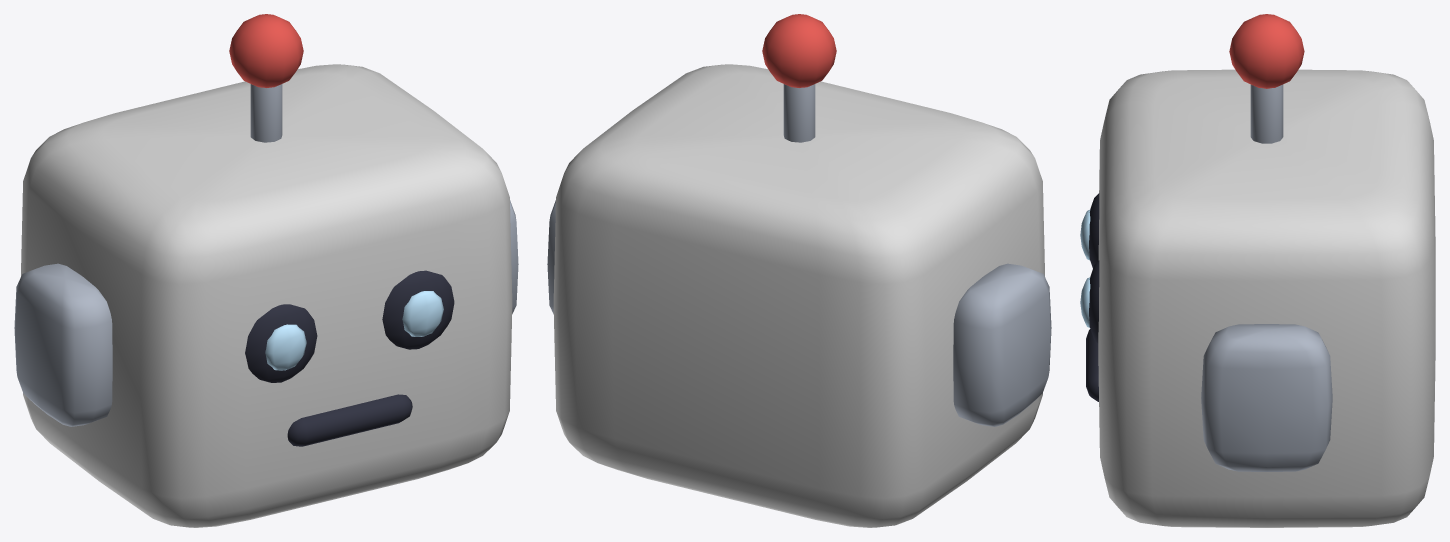
File: robot_head.glb
3 views of the same model, side by side, from view 1: azimuth 30°, elevation 25°; view 2: azimuth 150°, elevation 25°; view 3: azimuth 270°, elevation 25° (orthographic).
Parts seen in each view (by area): view 1: robot_head; view 2: robot_head; view 3: robot_head.
Part boxes in pixels (x1,y1,x2,y2): robot_head: (14, 14, 518, 527); robot_head: (547, 14, 1051, 527); robot_head: (1080, 14, 1435, 527).
Bounding box in the file's own units: 1 × 0.9123 × 0.6631.
